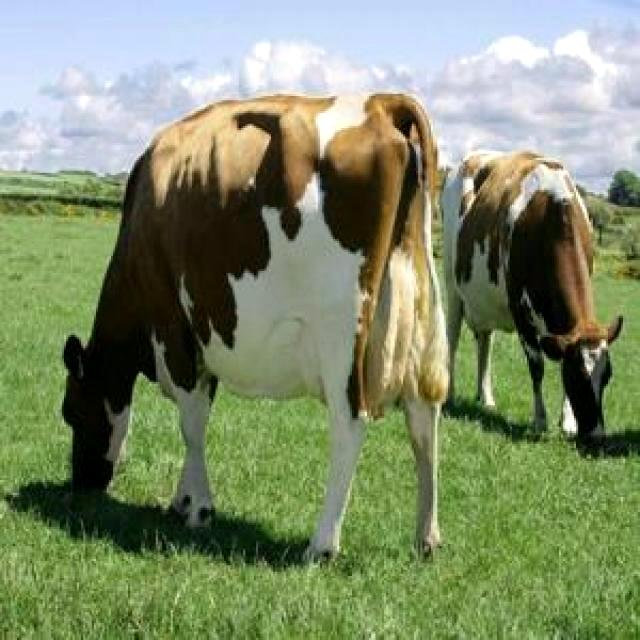COW: (62, 94, 449, 558), (442, 152, 622, 441)
